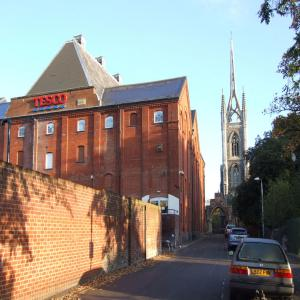Vehicle-registration-plate: (251, 270, 273, 279), (237, 238, 243, 241)
